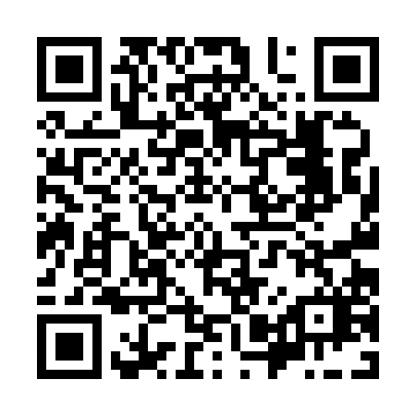qr: (34, 35, 386, 383)
